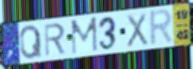3: (97, 14, 120, 52)
M: (70, 15, 99, 57)
Q: (19, 24, 44, 61)
R: (149, 7, 175, 48), (43, 22, 67, 59)
X: (125, 11, 149, 49)
